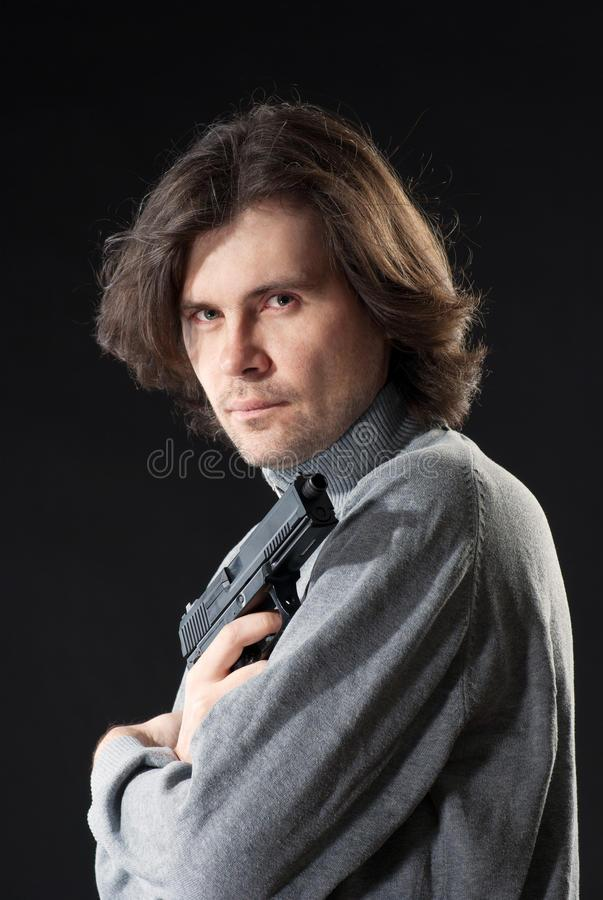criminal: (81, 92, 586, 900)
weapon: (170, 458, 352, 687)
